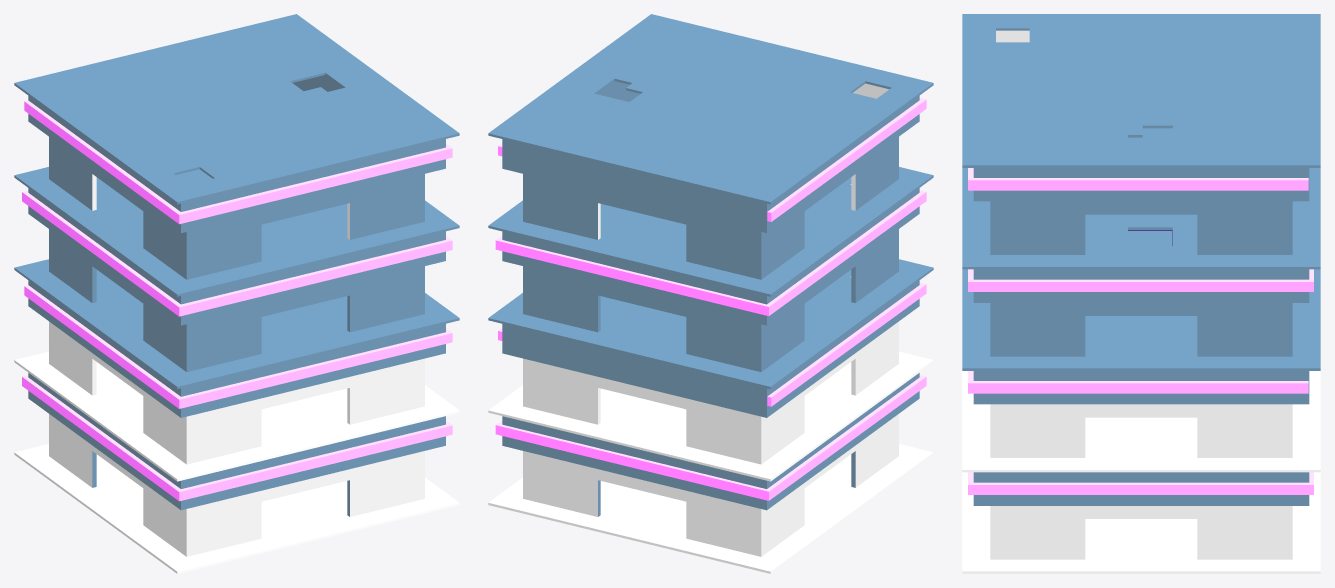
Rendered from NewStudzArtcadeBuilding_3.gltf.
The picture shows the model from 3 angles, left to right: view 1: azimuth 30°, elevation 25°; view 2: azimuth 150°, elevation 25°; view 3: azimuth 270°, elevation 25°; orthographic projection. The views are drawn at different scales.
Visible parts, largest first — view 1: Building.009, Wall Outline.028, Wall Outline.029, Wall Outline.030, Wall Outline.027, Neon Outline, Neon Outline.002, Neon Outline.001, Neon Outline.003; view 2: Building.009, Wall Outline.028, Wall Outline.030, Wall Outline.029, Wall Outline.027, Neon Outline.002, Neon Outline, Neon Outline.001, Neon Outline.003; view 3: Building.009, Wall Outline.028, Wall Outline.030, Wall Outline.027, Wall Outline.029, Neon Outline, Neon Outline.002, Neon Outline.001, Neon Outline.003.
Part boxes in pixels (box(x1,y1,x2,y2)): Building.009: box(14, 14, 459, 573); Wall Outline.028: box(28, 280, 445, 417); Wall Outline.029: box(28, 188, 445, 325); Wall Outline.030: box(28, 96, 445, 233); Wall Outline.027: box(28, 373, 445, 510); Neon Outline: box(22, 375, 452, 501); Neon Outline.002: box(22, 190, 452, 316); Neon Outline.001: box(24, 285, 452, 408); Neon Outline.003: box(24, 100, 452, 224); Building.009: box(488, 14, 933, 573); Wall Outline.028: box(502, 280, 919, 417); Wall Outline.030: box(502, 96, 919, 233); Wall Outline.029: box(502, 188, 919, 325); Wall Outline.027: box(502, 373, 919, 510); Neon Outline.002: box(495, 190, 926, 316); Neon Outline: box(495, 375, 926, 500); Neon Outline.001: box(498, 282, 926, 406); Neon Outline.003: box(498, 98, 926, 221); Building.009: box(962, 14, 1320, 573); Wall Outline.028: box(973, 371, 1309, 404); Wall Outline.030: box(973, 168, 1309, 201); Wall Outline.027: box(973, 472, 1309, 505); Wall Outline.029: box(973, 269, 1309, 302); Neon Outline: box(968, 472, 1313, 494); Neon Outline.002: box(968, 269, 1313, 291); Neon Outline.001: box(968, 371, 1308, 393); Neon Outline.003: box(968, 168, 1308, 190).
Size of what is drawn, in the model's own units: 32 by 40.25 by 32.
